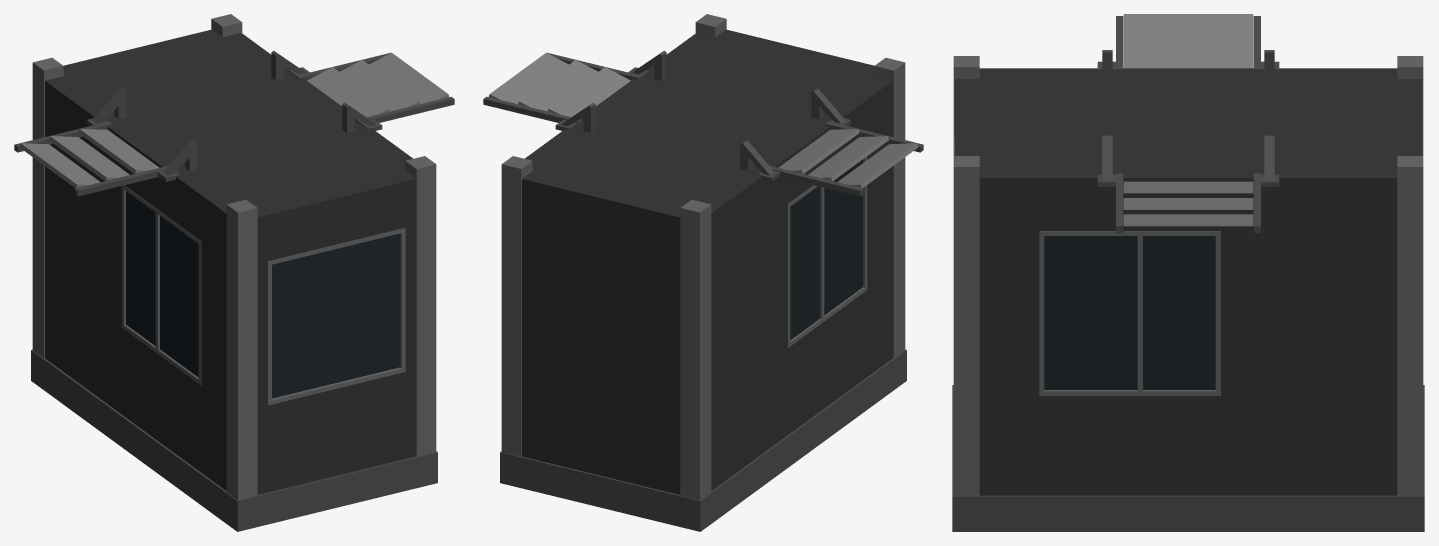
Rendered from checkpointStand1.fbx.
The picture shows the model from 3 angles, left to right: view 1: azimuth 30°, elevation 25°; view 2: azimuth 150°, elevation 25°; view 3: azimuth 270°, elevation 25°; orthographic projection. The views are drawn at different scales.
Visible parts, largest first — view 1: Cube; view 2: Cube; view 3: Cube.
Boxes of the visible parts, x1,y1,x2,y2 form: Cube: (14,14,454,531); Cube: (483,14,923,531); Cube: (952,14,1424,531).
Size of the model in its own units: 384 by 326 by 364.
